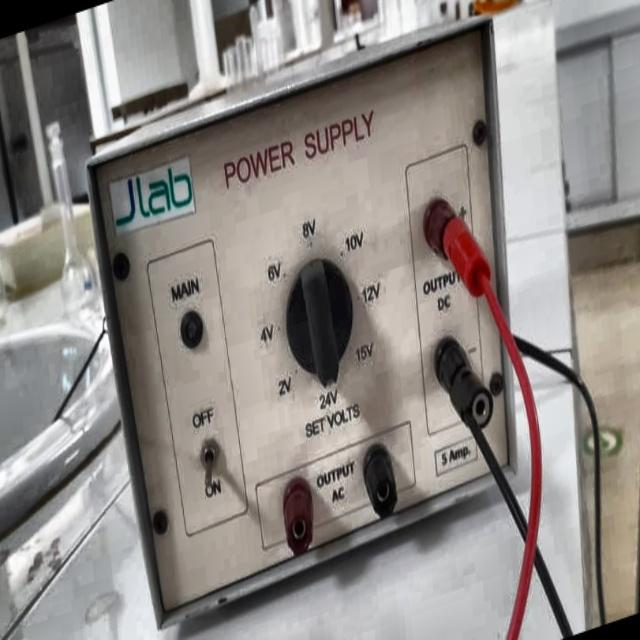Power Supply: (78, 9, 540, 638)
